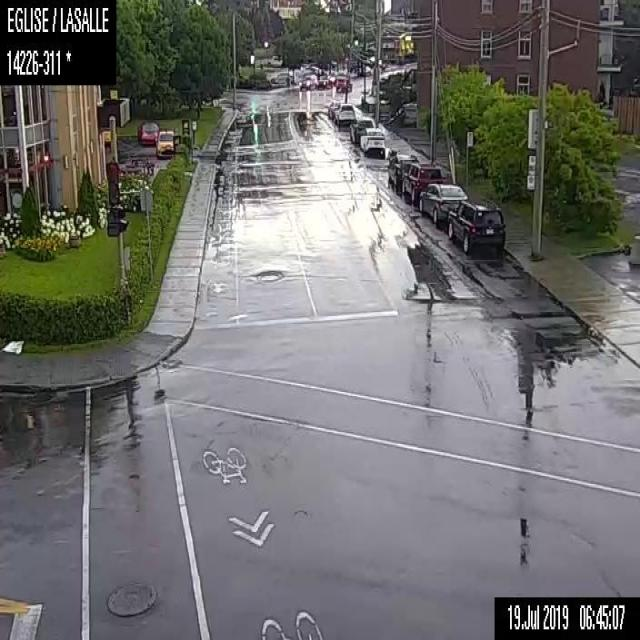vehicle: (446, 199, 505, 252), (418, 182, 467, 223), (400, 159, 442, 206), (385, 151, 417, 194), (349, 116, 375, 147), (360, 128, 386, 155), (154, 127, 176, 157), (136, 119, 158, 145), (334, 103, 356, 129), (268, 70, 294, 83), (315, 74, 333, 89), (334, 74, 348, 92), (327, 100, 341, 118), (296, 75, 314, 88)
